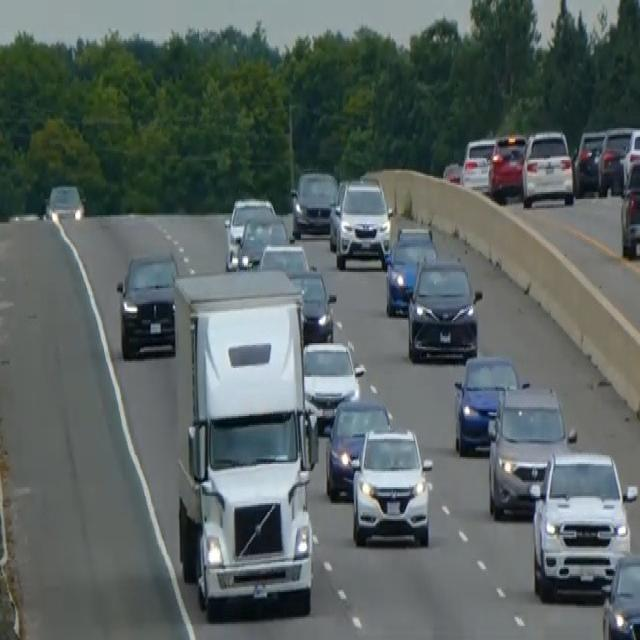car: (529, 446, 637, 601), (486, 381, 576, 519), (350, 425, 433, 547), (406, 256, 482, 363), (324, 394, 392, 500), (452, 352, 521, 455), (115, 249, 178, 359), (301, 338, 364, 428), (335, 176, 391, 268), (384, 224, 437, 316), (521, 128, 574, 208), (223, 194, 276, 268), (289, 265, 336, 341), (600, 550, 639, 638), (290, 167, 337, 238), (597, 124, 639, 196), (236, 212, 288, 270), (487, 130, 527, 201), (572, 128, 606, 194), (619, 158, 639, 258), (461, 135, 495, 190), (258, 240, 309, 276), (44, 182, 84, 222), (328, 178, 350, 250), (441, 158, 462, 185)
lorry: (171, 267, 319, 615)
